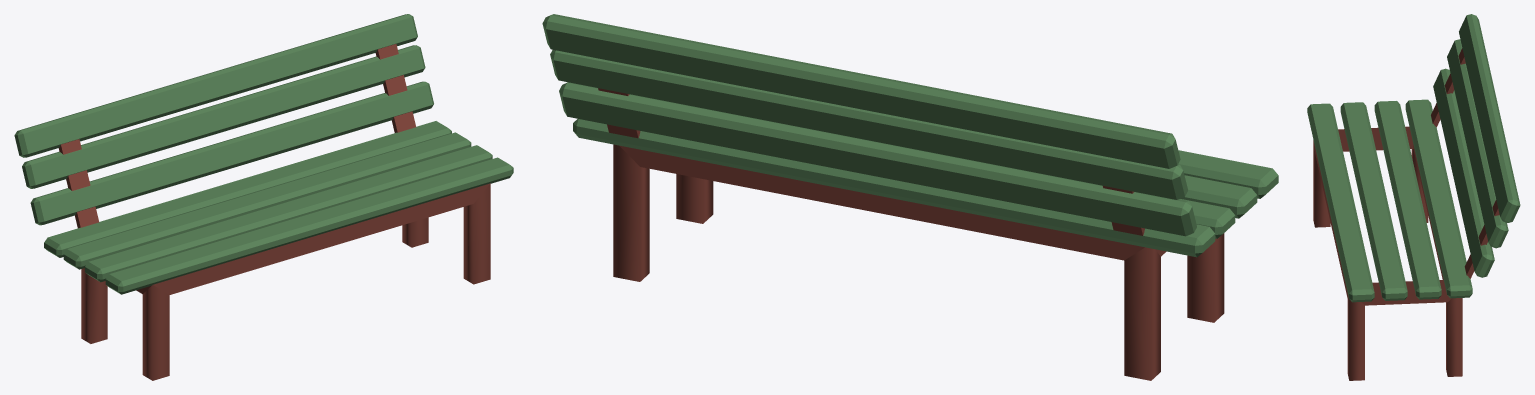
Rendered from SM_Bench_2.fbx.
The picture shows the model from 3 angles, left to right: view 1: azimuth 30°, elevation 25°; view 2: azimuth 150°, elevation 25°; view 3: azimuth 270°, elevation 25°; orthographic projection. The views are drawn at different scales.
Parts seen in each view (by area): view 1: SM_Bench_2; view 2: SM_Bench_2; view 3: SM_Bench_2.
Part boxes in pixels (<box>): SM_Bench_2: <box>14,14,513,380</box>; SM_Bench_2: <box>542,14,1278,380</box>; SM_Bench_2: <box>1307,14,1520,380</box>.
Size of the model in its own units: 187 by 82.15 by 86.02.
